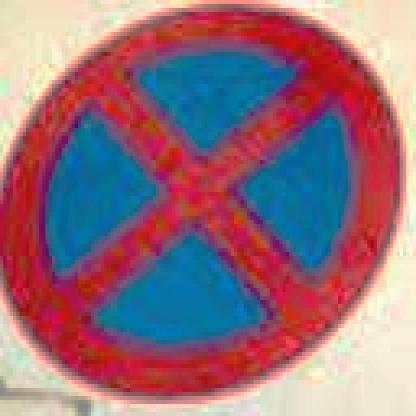No stopping: (2, 0, 406, 408)
